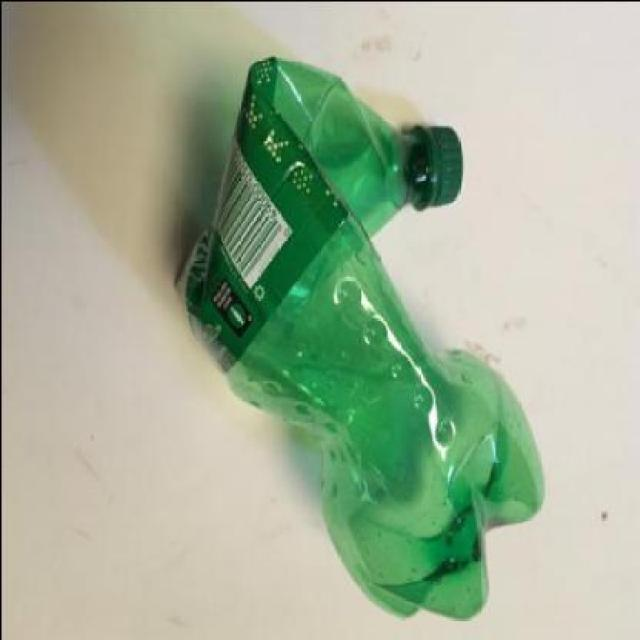PLASTIC: (175, 57, 547, 620), (183, 60, 348, 377), (416, 126, 462, 212)
